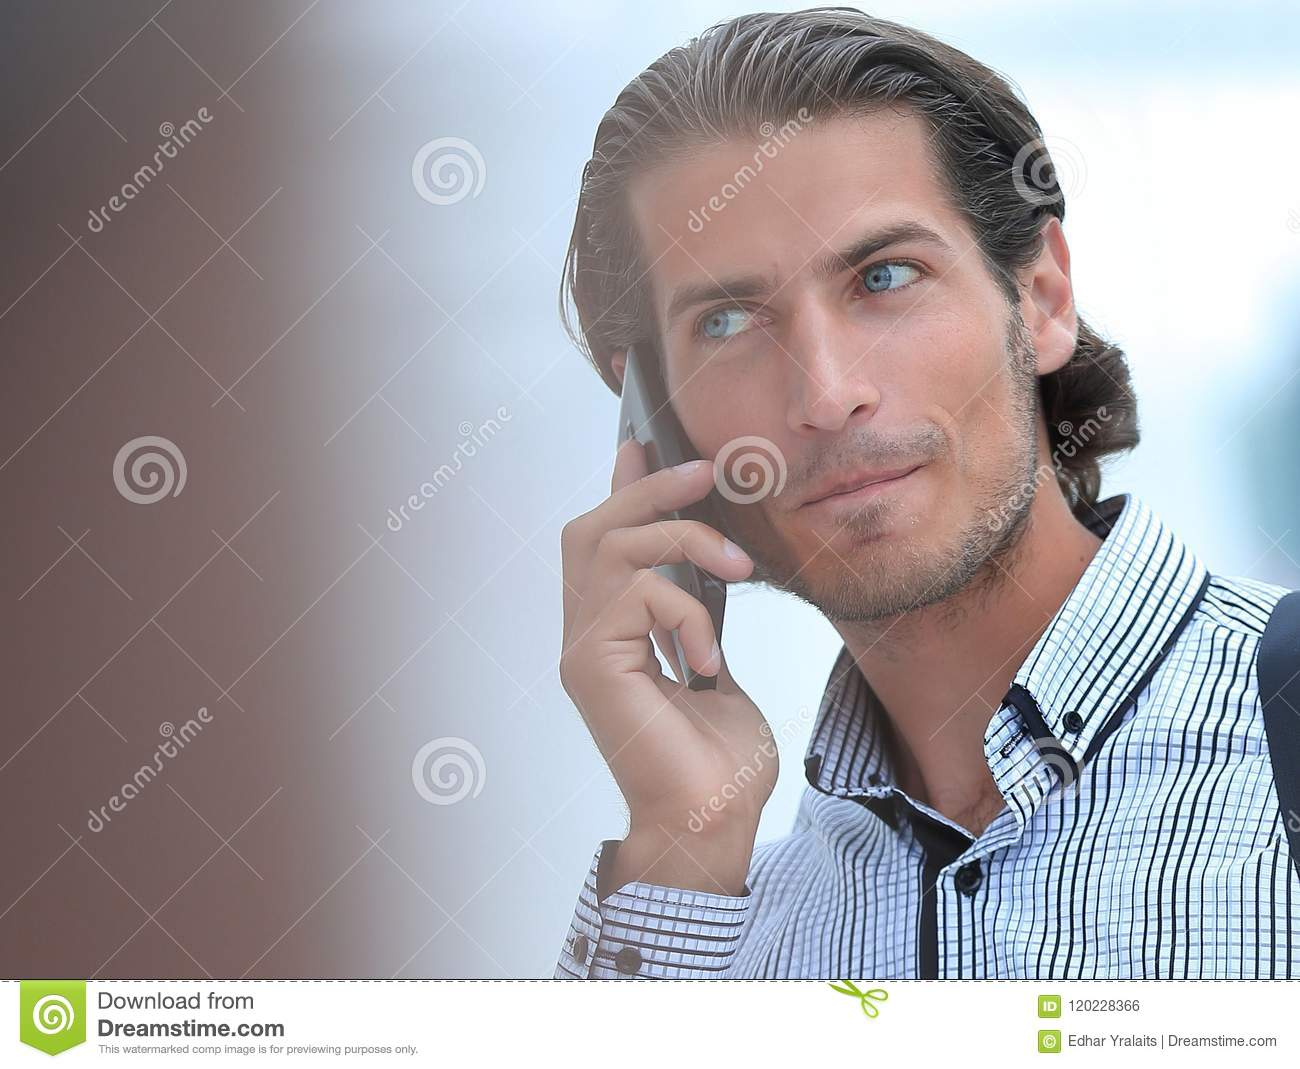phone: (604, 335, 740, 711)
talk: (558, 207, 984, 889)
